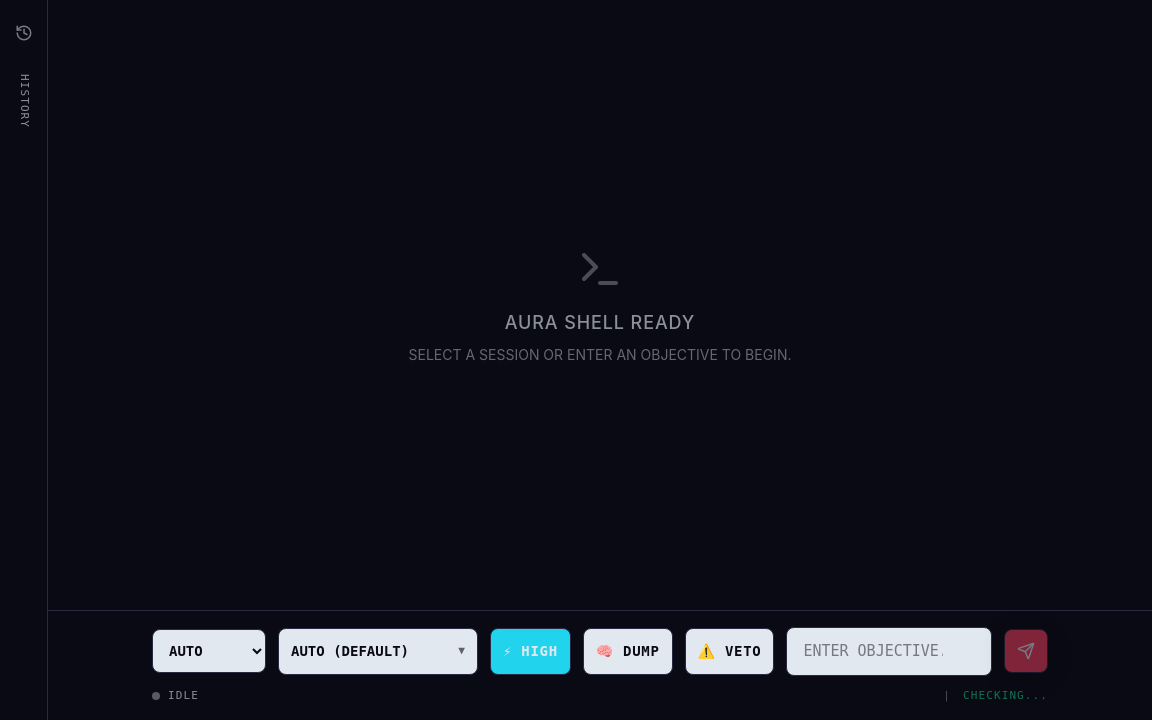
it: CoreTerminal Resiliency (SSE Streaming) › final answer arrives exactly once via done
In the field with placeholder "ENTER OBJECTIVE...": [889, 651] box x1=786 y1=627 x2=992 y2=676, type "Test message"
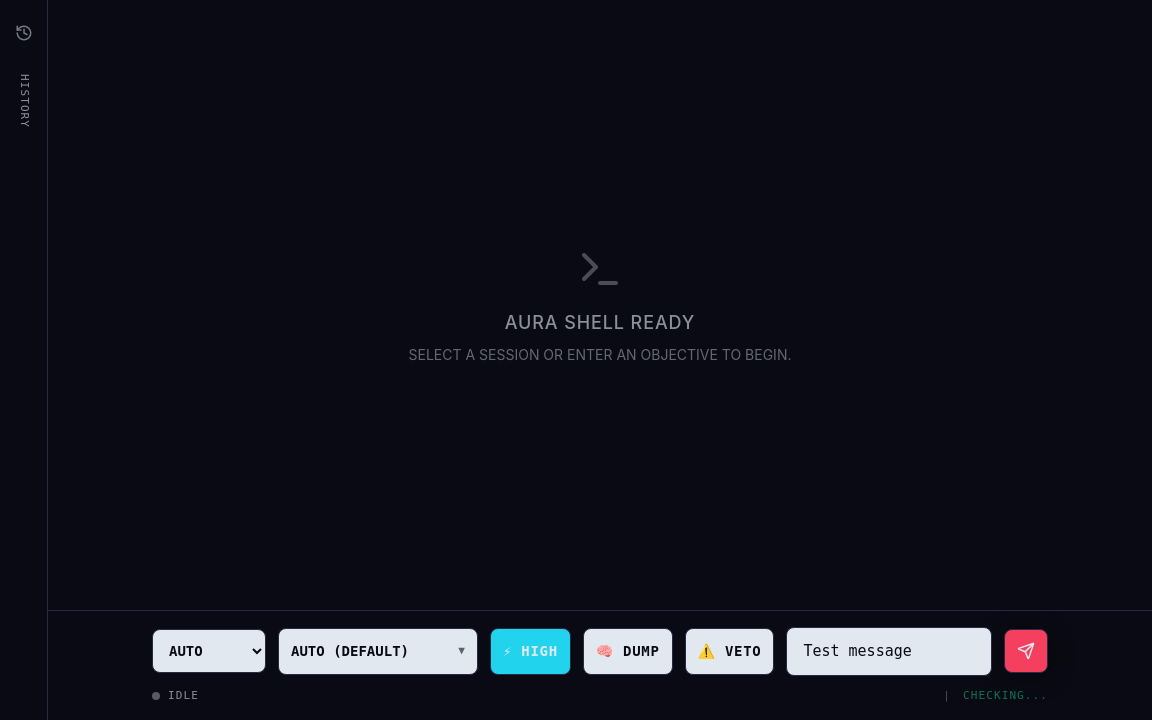
Press Enter in the field with placeholder "ENTER OBJECTIVE...", box x1=786 y1=627 x2=992 y2=676
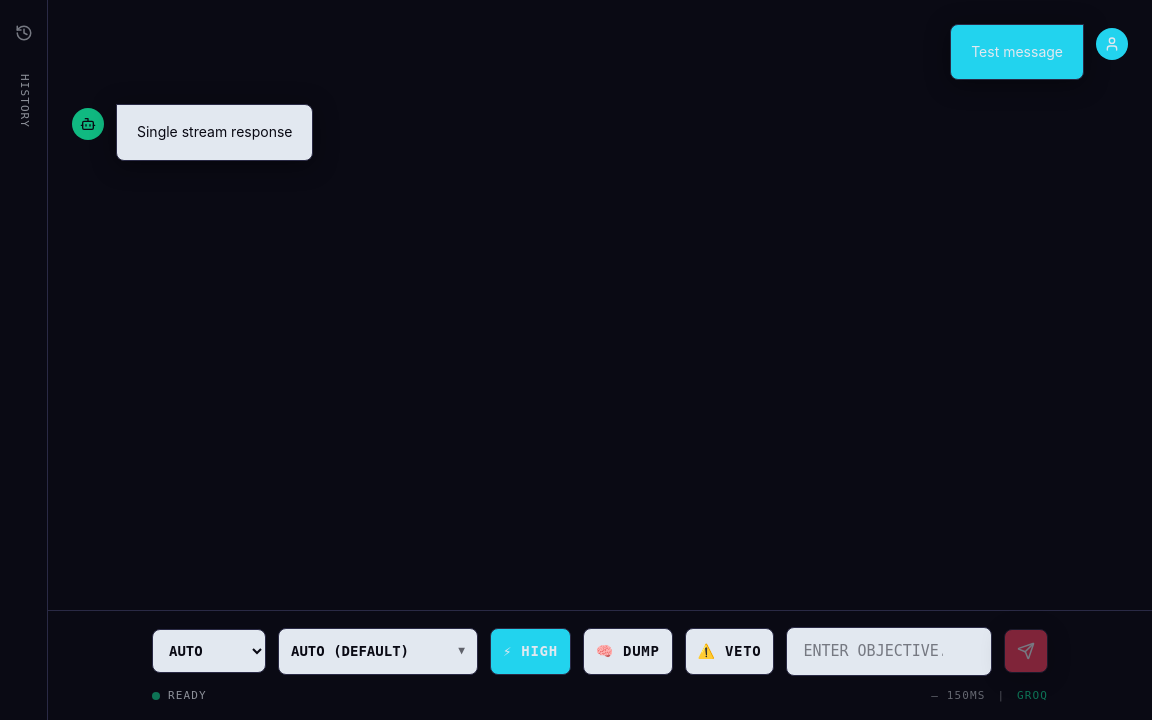
Now the text "Single stream response" is shown once, box x1=137 y1=121 x2=292 y2=144
